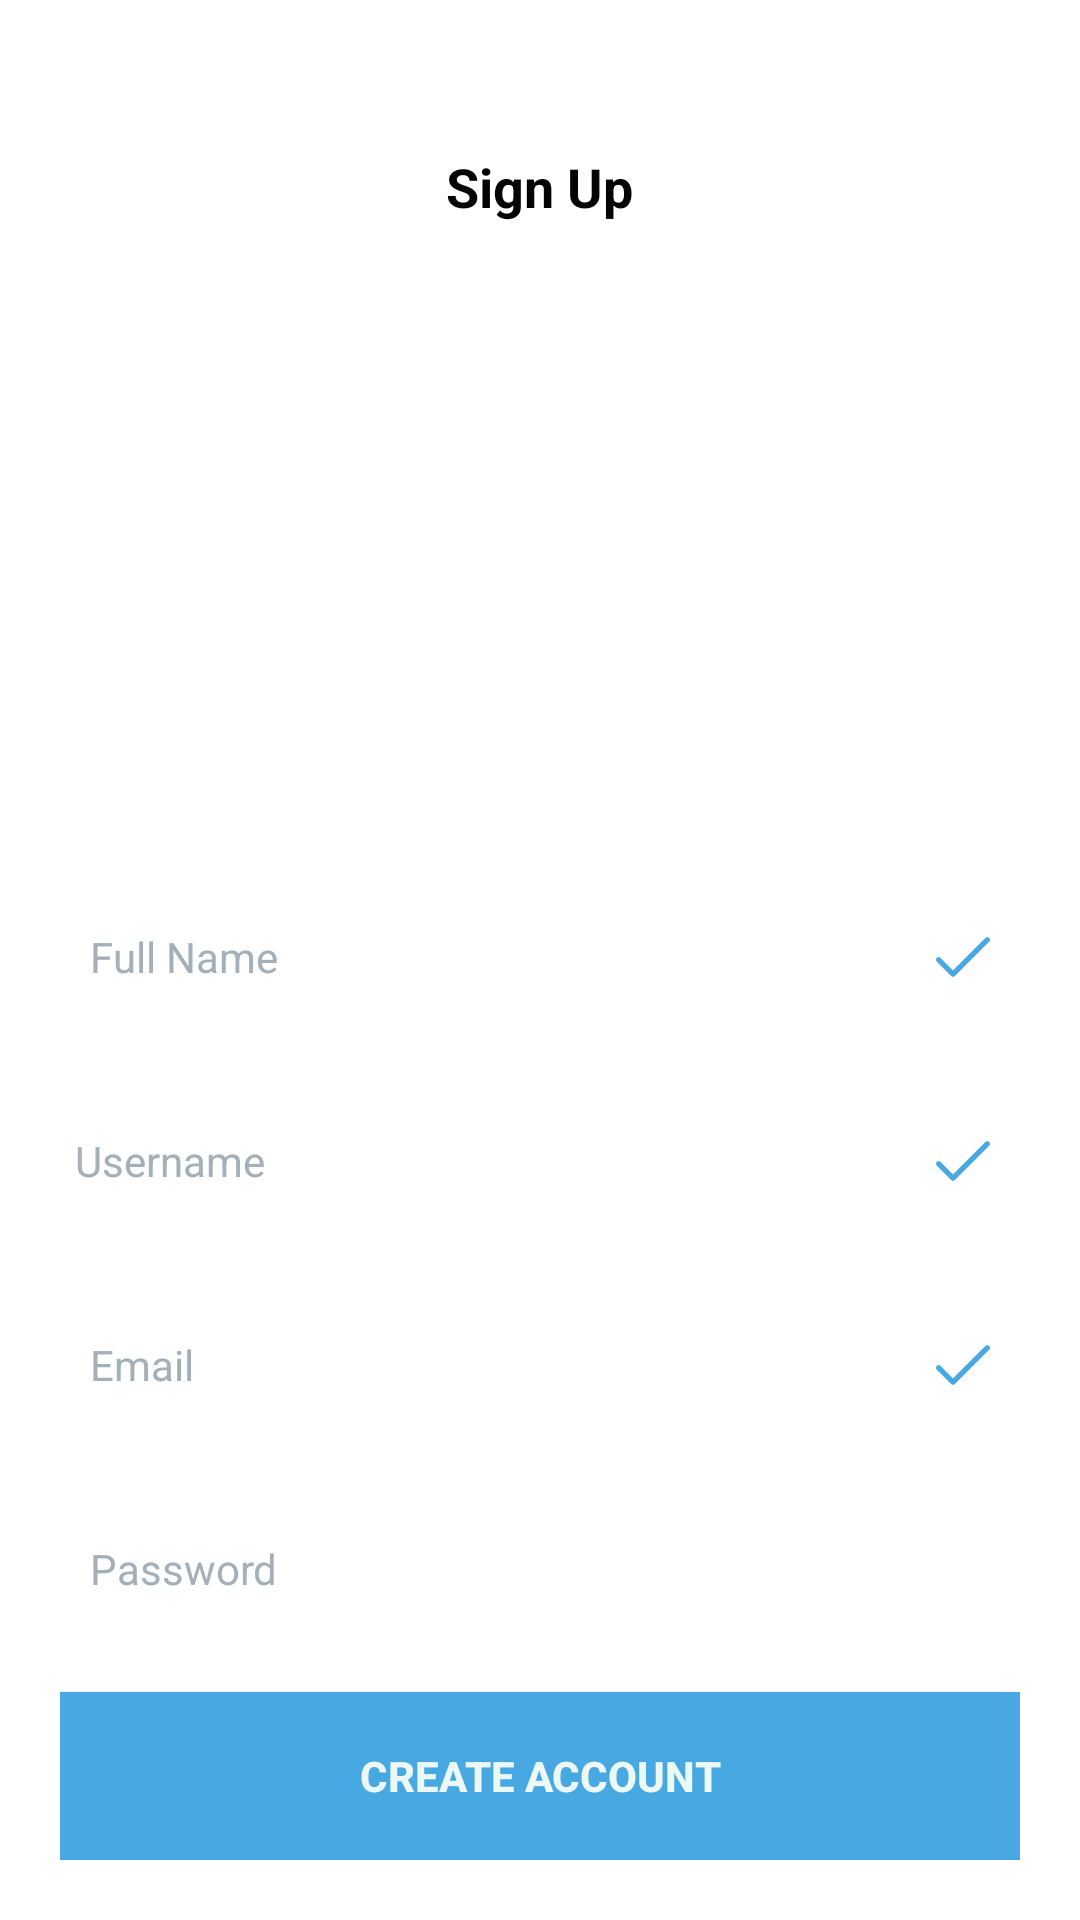

Where icons sit on this 1080px×1920px app screen, as {"left": x1, "top": y1, "right": x2, "bottom": y2}:
checkmark: {"left": 936, "top": 937, "right": 990, "bottom": 977}, {"left": 936, "top": 1141, "right": 990, "bottom": 1181}, {"left": 936, "top": 1345, "right": 990, "bottom": 1385}
